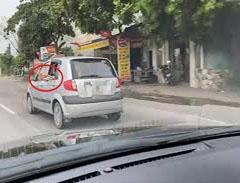car: (13, 49, 132, 130)
